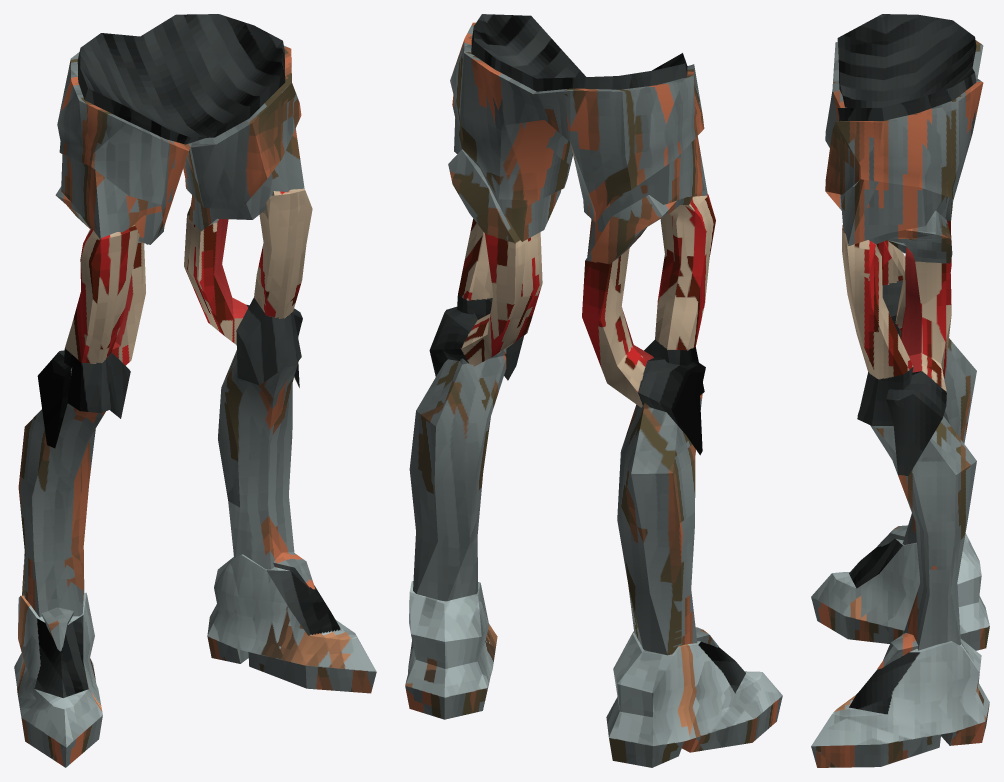
The model's file is DefaultLegs.fbx.
3 views of the same model, side by side, from view 1: azimuth 30°, elevation 25°; view 2: azimuth 150°, elevation 25°; view 3: azimuth 270°, elevation 25° (orthographic). The views are drawn at different scales.
Parts seen in each view (by area): view 1: flesh_legs.003; view 2: flesh_legs.003; view 3: flesh_legs.003.
Boxes of the visible parts, x1=… form: flesh_legs.003: x1=14, y1=14, x2=376, y2=767; flesh_legs.003: x1=405, y1=14, x2=782, y2=767; flesh_legs.003: x1=811, y1=14, x2=989, y2=767.
Size of the model in its own units: 83.26 by 157 by 39.73.
